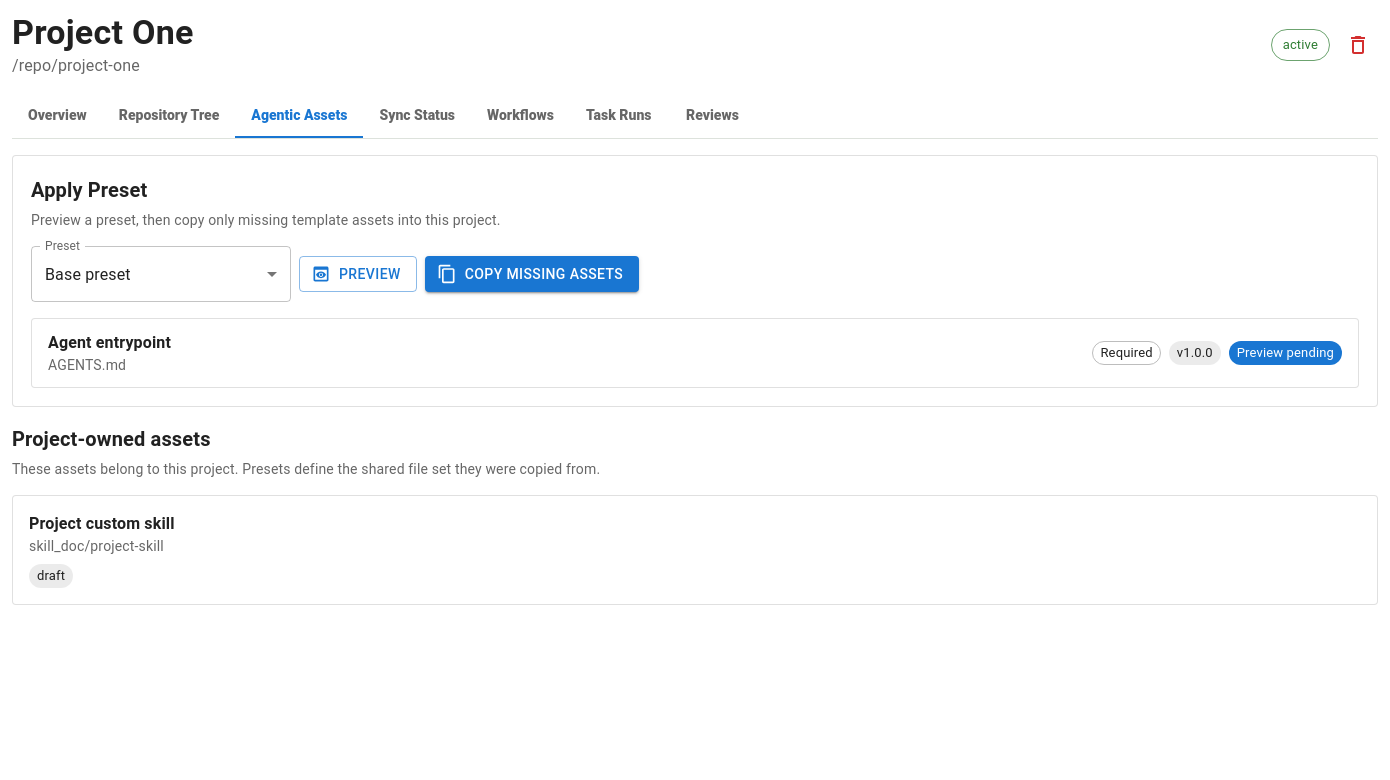
Test case: ProjectsPage › shows project-owned assets and preset preview statuses in the project assets view
The width and height of the screenshot is (1390, 780).
Expected: the text "Project custom skill" is shown, [29,514,175,533]
Expected: the heading "Project-owned assets" is shown, [12,427,211,451]
Click the button "Preview" at [358, 274], box [299,256,417,292]
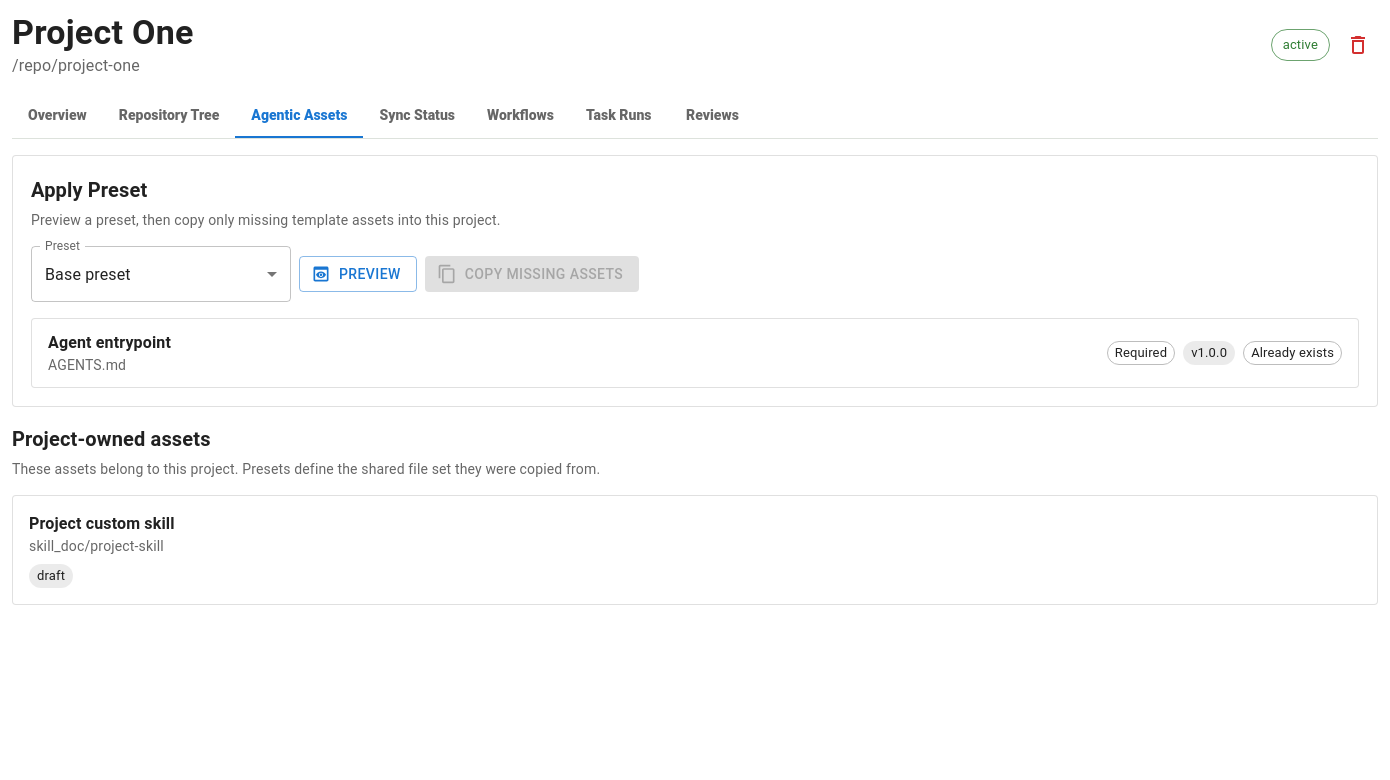
Now the text "Already exists" is shown, box [1244,343,1341,363]
